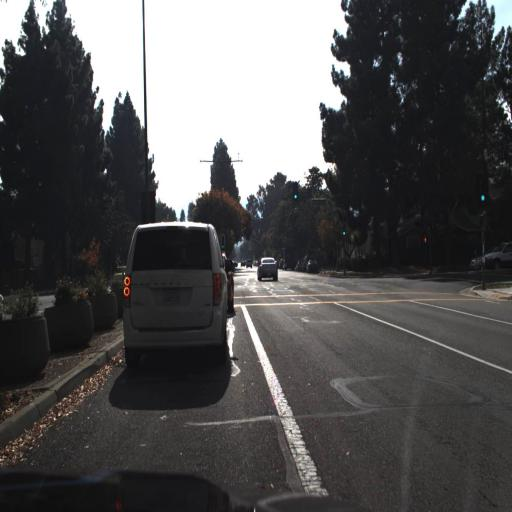car: (119, 214, 230, 372), (483, 239, 512, 274), (256, 250, 281, 284), (256, 255, 279, 282), (467, 248, 489, 272)
trafficLight-Green: (478, 174, 487, 208), (291, 184, 301, 209), (292, 182, 298, 202), (340, 221, 346, 238)
